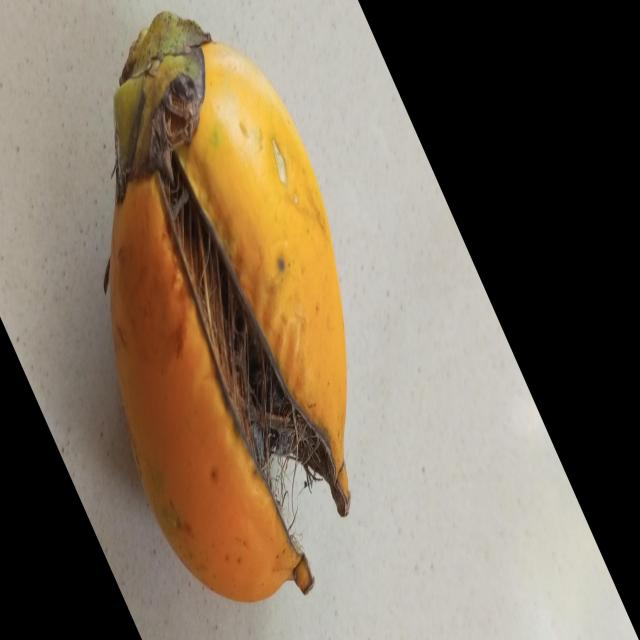damaged: (110, 14, 351, 603)
